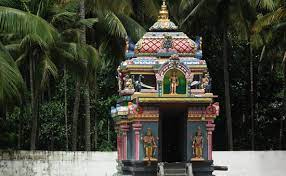Temple: (107, 4, 223, 171)
